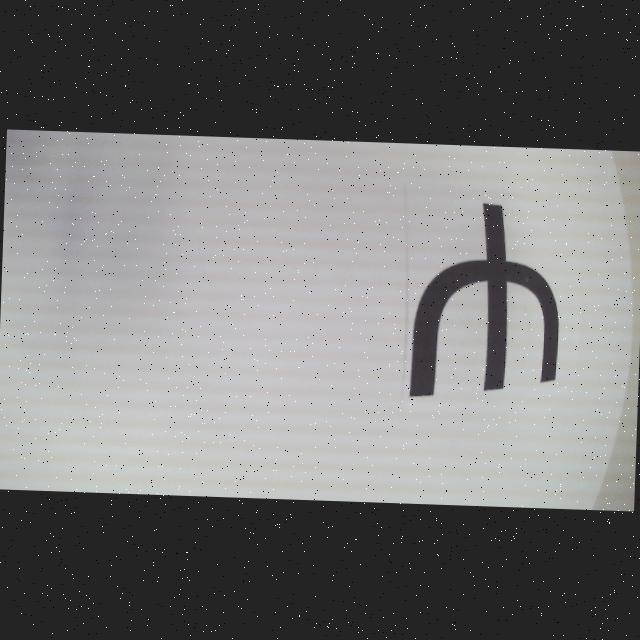PSI: (408, 200, 564, 402)
